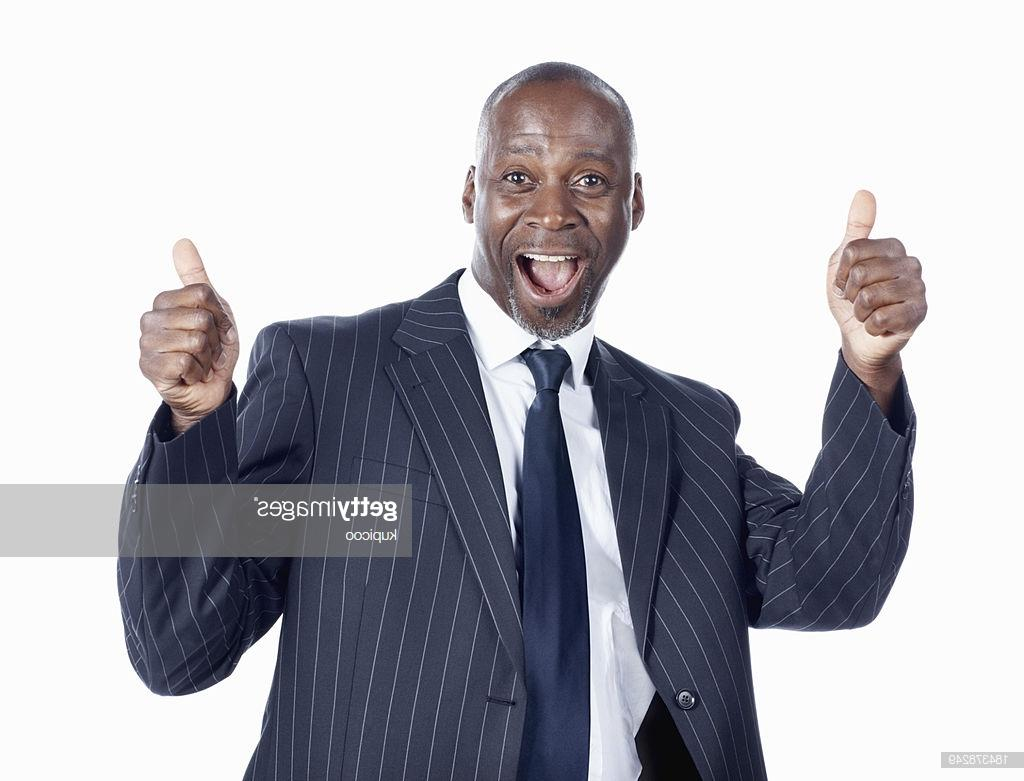thumbsup: (137, 237, 239, 389), (832, 188, 928, 340)
